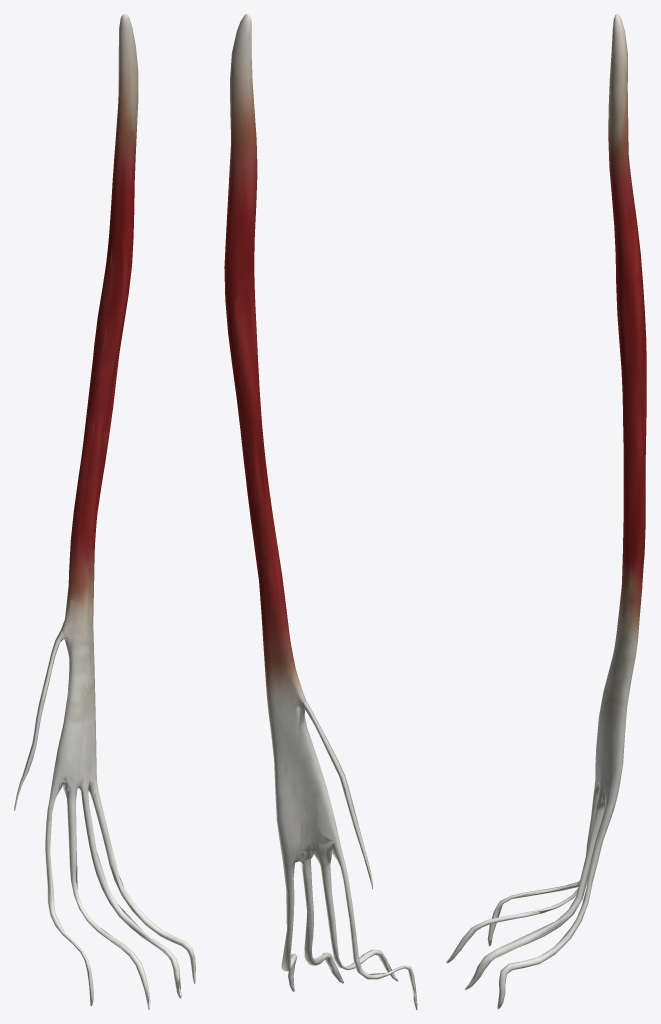
File: LF Extensor digitorum lateralis.fbx
3 views of the same model, side by side, from view 1: azimuth 30°, elevation 25°; view 2: azimuth 150°, elevation 25°; view 3: azimuth 270°, elevation 25° (orthographic). The views are drawn at different scales.
Visible parts, largest first — view 1: LF Extensor digitorum lateralis, LF Extensor digitorum lateralis low, LF Extensor digitorum lateralis high; view 2: LF Extensor digitorum lateralis, LF Extensor digitorum lateralis low, LF Extensor digitorum lateralis high; view 3: LF Extensor digitorum lateralis, LF Extensor digitorum lateralis low, LF Extensor digitorum lateralis high.
Part boxes in pixels (<box>): LF Extensor digitorum lateralis: <box>14,14,195,1009</box>; LF Extensor digitorum lateralis low: <box>17,14,194,1003</box>; LF Extensor digitorum lateralis high: <box>33,23,194,1004</box>; LF Extensor digitorum lateralis: <box>224,14,417,1009</box>; LF Extensor digitorum lateralis low: <box>225,15,416,999</box>; LF Extensor digitorum lateralis high: <box>229,25,416,1004</box>; LF Extensor digitorum lateralis: <box>446,14,646,1009</box>; LF Extensor digitorum lateralis low: <box>450,15,644,1004</box>; LF Extensor digitorum lateralis high: <box>454,19,646,1001</box>.
Bounding box in the file's own units: 1.92 × 13.31 × 2.45.
